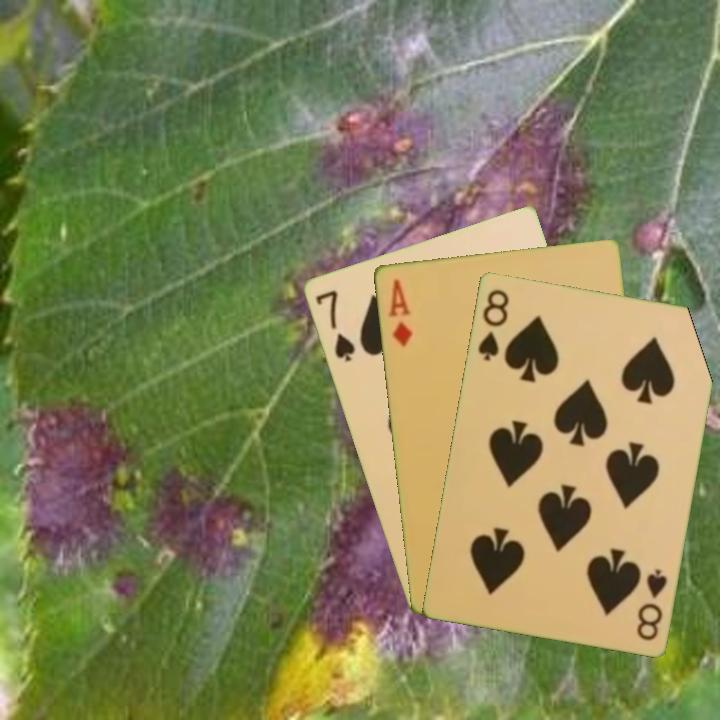7s: (311, 286, 357, 365)
8s: (474, 285, 512, 364), (632, 564, 670, 643)
Ad: (383, 275, 415, 349)
